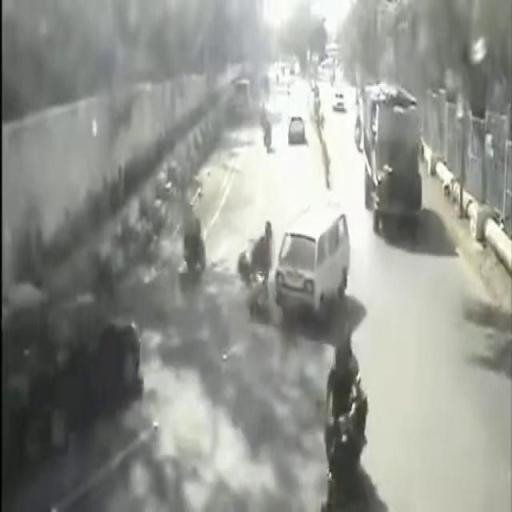小汽车: (362, 86, 432, 238)
小汽车撞自行车: (240, 194, 354, 318)
自行车: (313, 334, 385, 488), (172, 190, 210, 275)
